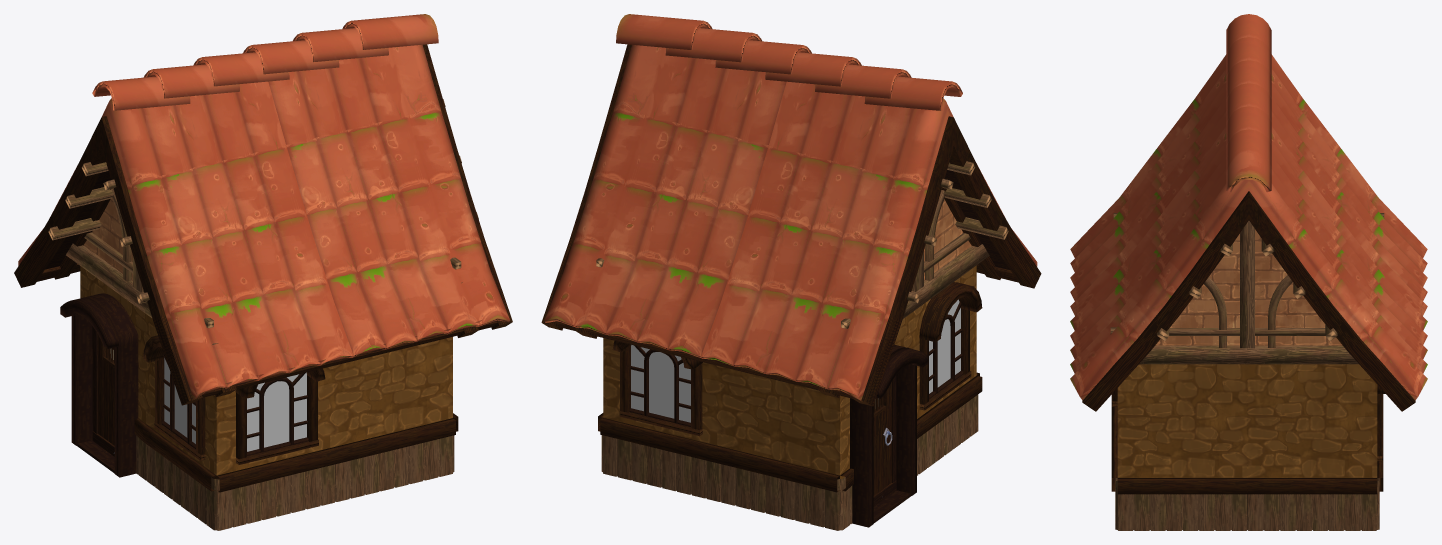
File: Casa_piccola3.obj
3 renders of one model, left to right at view 1: azimuth 30°, elevation 25°; view 2: azimuth 150°, elevation 25°; view 3: azimuth 270°, elevation 25°, orthographic. The views are drawn at different scales.
Visible parts, largest first — view 1: StaticMeshActor_181, StaticMeshActor_166, StaticMeshActor_173, StaticMeshActor_180, StaticMeshActor_176, StaticMeshActor_172, StaticMeshActor_177, StaticMeshActor_175, StaticMeshActor_174, StaticMeshActor_179; view 2: StaticMeshActor_181, StaticMeshActor_171, StaticMeshActor_168, StaticMeshActor_180, StaticMeshActor_170, StaticMeshActor_177, StaticMeshActor_175, StaticMeshActor_172, StaticMeshActor_179, StaticMeshActor_174; view 3: StaticMeshActor_181, StaticMeshActor_169, StaticMeshActor_167, StaticMeshActor_178, StaticMeshActor_166, StaticMeshActor_170.
Boxes of the visible parts, x1=… form: StaticMeshActor_181: x1=14, y1=14, x2=512, y2=405; StaticMeshActor_166: x1=334, y1=337, x2=455, y2=501; StaticMeshActor_173: x1=216, y1=365, x2=337, y2=530; StaticMeshActor_180: x1=60, y1=293, x2=138, y2=477; StaticMeshActor_176: x1=235, y1=368, x2=325, y2=464; StaticMeshActor_172: x1=143, y1=316, x2=217, y2=530; StaticMeshActor_177: x1=48, y1=162, x2=218, y2=344; StaticMeshActor_175: x1=143, y1=335, x2=205, y2=460; StaticMeshActor_174: x1=80, y1=266, x2=148, y2=480; StaticMeshActor_179: x1=92, y1=326, x2=114, y2=456; StaticMeshActor_181: x1=541, y1=14, x2=1041, y2=406; StaticMeshActor_171: x1=718, y1=367, x2=839, y2=530; StaticMeshActor_168: x1=600, y1=338, x2=721, y2=501; StaticMeshActor_180: x1=850, y1=344, x2=928, y2=527; StaticMeshActor_170: x1=612, y1=341, x2=702, y2=436; StaticMeshActor_177: x1=841, y1=161, x2=1008, y2=328; StaticMeshActor_175: x1=919, y1=282, x2=982, y2=410; StaticMeshActor_172: x1=908, y1=265, x2=982, y2=475; StaticMeshActor_179: x1=873, y1=375, x2=896, y2=506; StaticMeshActor_174: x1=839, y1=315, x2=908, y2=530; StaticMeshActor_181: x1=1070, y1=14, x2=1427, y2=411; StaticMeshActor_169: x1=1247, y1=364, x2=1377, y2=530; StaticMeshActor_167: x1=1117, y1=364, x2=1247, y2=530; StaticMeshActor_178: x1=1110, y1=221, x2=1358, y2=364; StaticMeshActor_166: x1=1111, y1=423, x2=1117, y2=529; StaticMeshActor_170: x1=1377, y1=385, x2=1385, y2=461.
Bounding box in the file's own units: 570 × 660 × 551.
